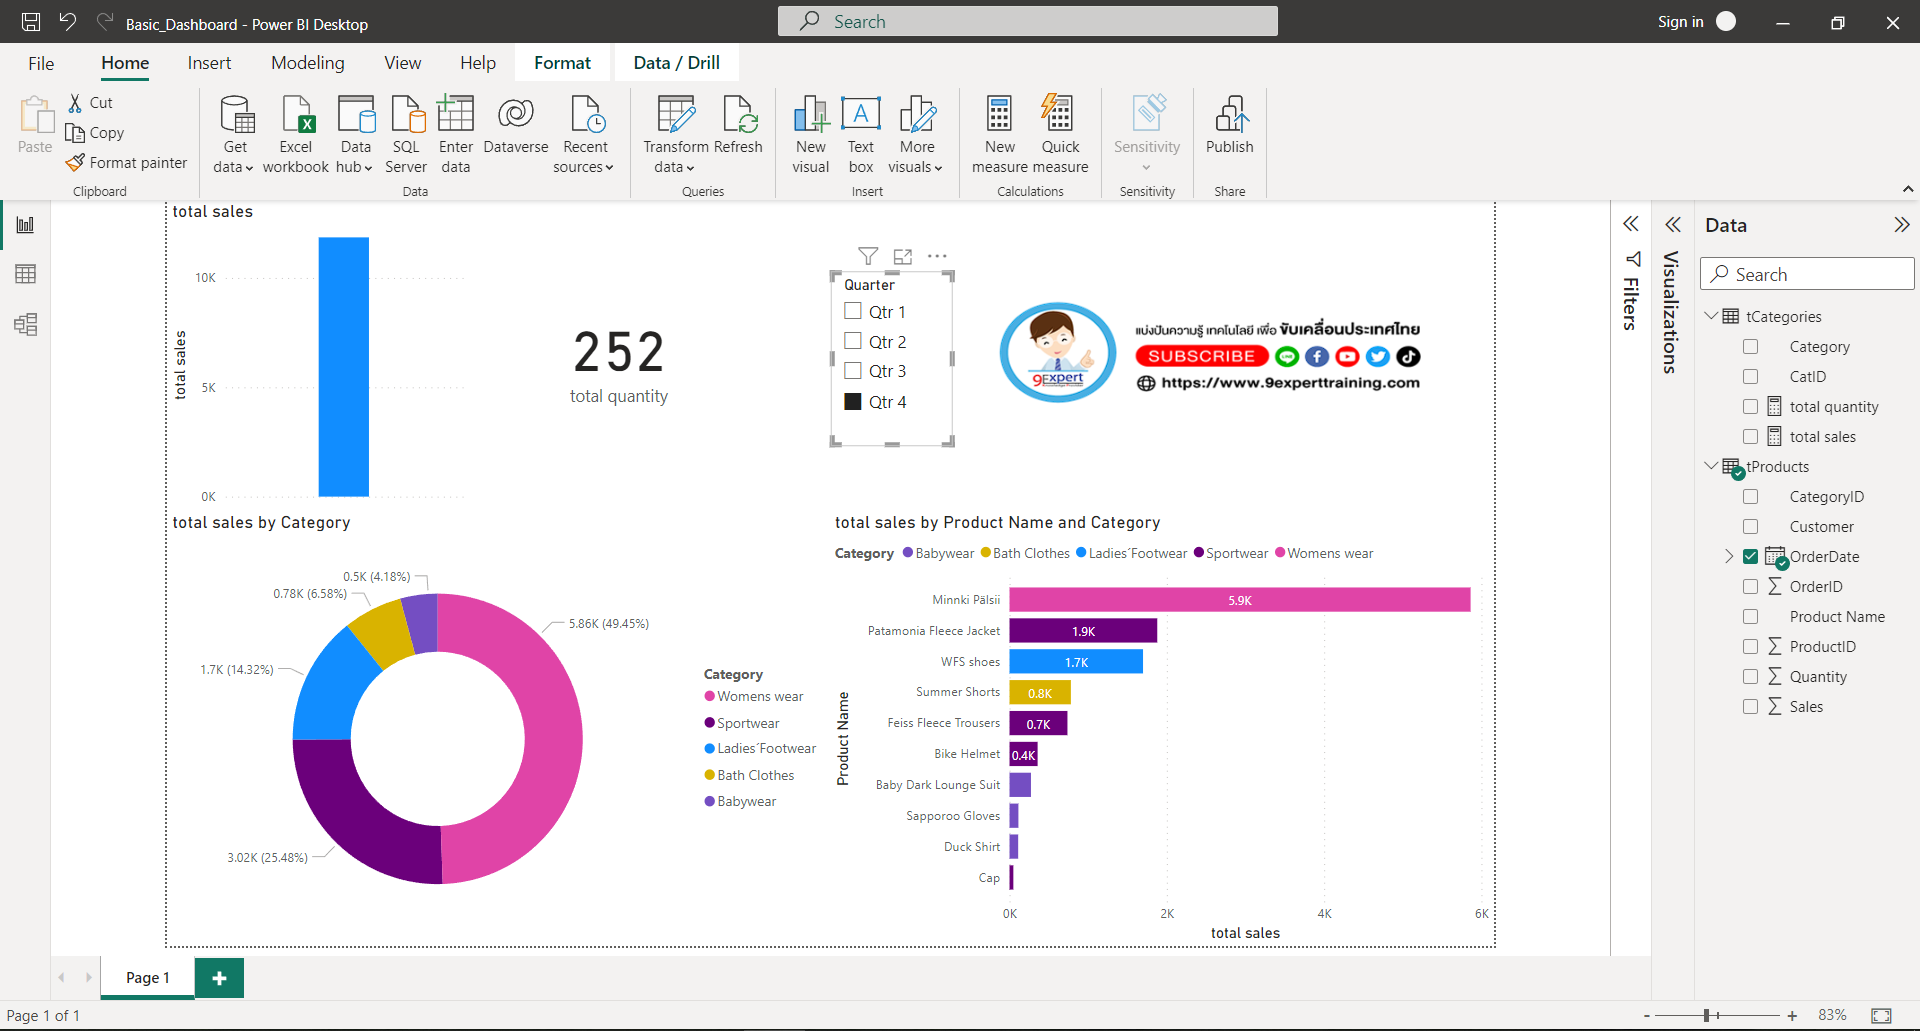

Layout of this report page (visuals, bound fields, positions):
{"tool":"powerbi","page":{"name":"Page 1","canvas":[1280,720],"ordinal":0},"visuals":[{"type":"columnChart","fields":{"Y":["tCategories.total sales"]},"box":[0,0,291.9,300.3],"z":0},{"type":"card","fields":{"Values":["tCategories.total quantity"]},"box":[291.9,0,288.2,300.3],"z":1000},{"type":"donutChart","fields":{"Y":["tCategories.total sales"],"Category":["tCategories.Category"]},"box":[0,300.5,640.8,419.9],"z":2000},{"type":"slicer","fields":{"Values":["tProducts.OrderDate.Variation.Date Hierarchy.Quarter"]},"box":[640.8,68.6,118,168.8],"z":3000},{"type":"barChart","fields":{"Category":["tProducts.Product Name"],"Y":["tCategories.total sales"],"Series":["tCategories.Category"]},"box":[639.5,300.5,640.8,419.9],"z":4000},{"type":"image","box":[759,69,521,169],"z":5000}]}

Visuals, with their boxes on the page's 1280x720 design canvas (x1, y1, x2, y2). These are canvas units, not pixel positions in the 1920x1031 screenshot, which may show the page scaled, cropped or inside an application window:
columnChart - tCategories.total sales: bbox=[0, 0, 292, 300]
card - tCategories.total quantity: bbox=[292, 0, 580, 300]
donutChart - tCategories.total sales x tCategories.Category: bbox=[0, 300, 641, 720]
slicer - tProducts.OrderDate.Variation.Date Hierarchy.Quarter: bbox=[641, 69, 759, 237]
barChart - tProducts.Product Name x tCategories.total sales: bbox=[640, 300, 1280, 720]
image: bbox=[759, 69, 1280, 238]
